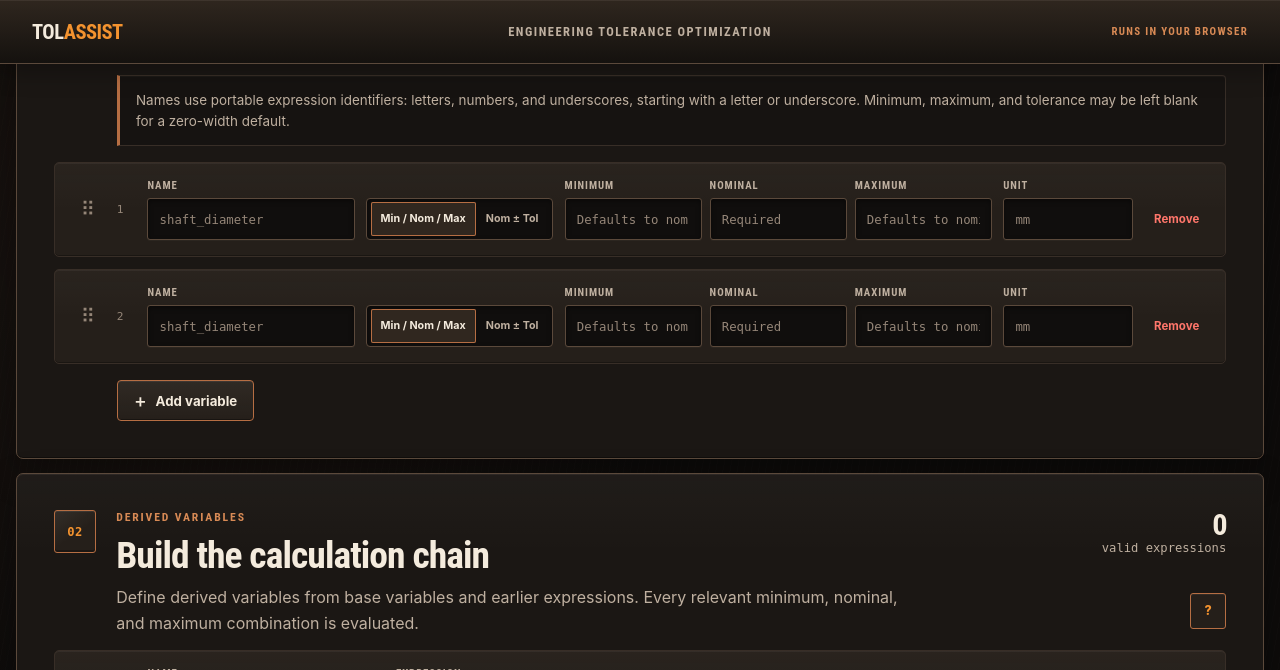
App › adds rows and permits deleting every row
(page scrolled)
Click the button "+ Add variable" at (186, 401), box [117, 380, 254, 421]
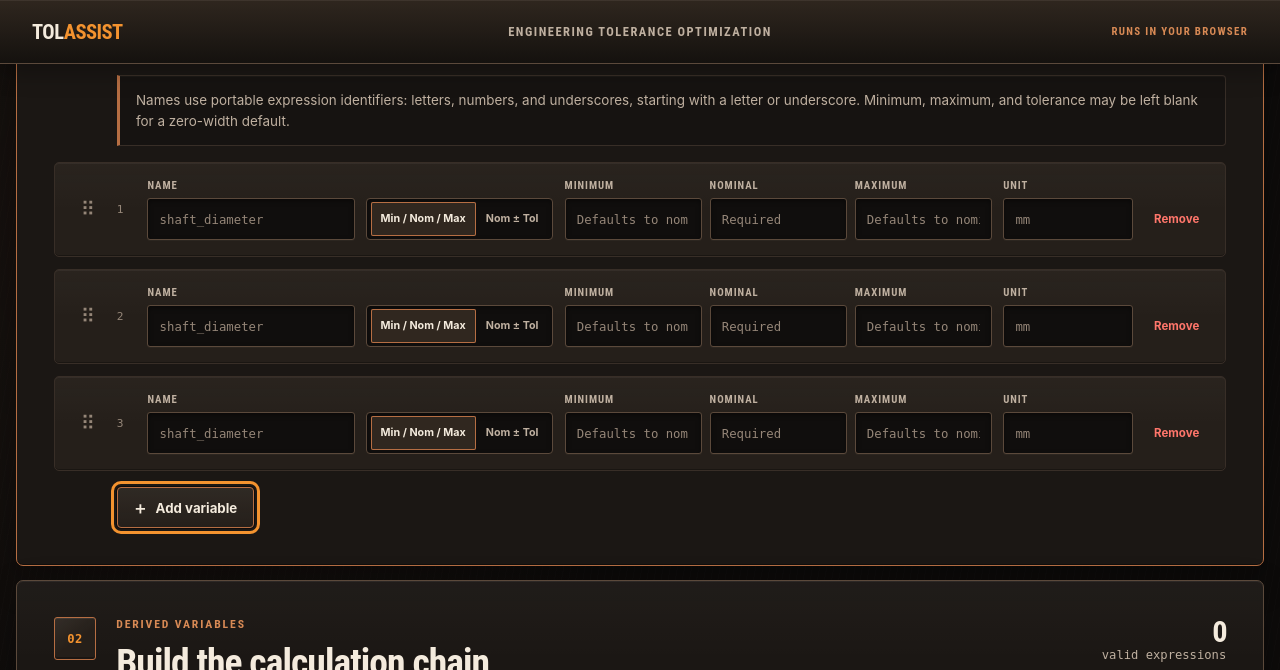
Click the button with aria-label "delete variable" at (1177, 219), box [1144, 198, 1209, 240]
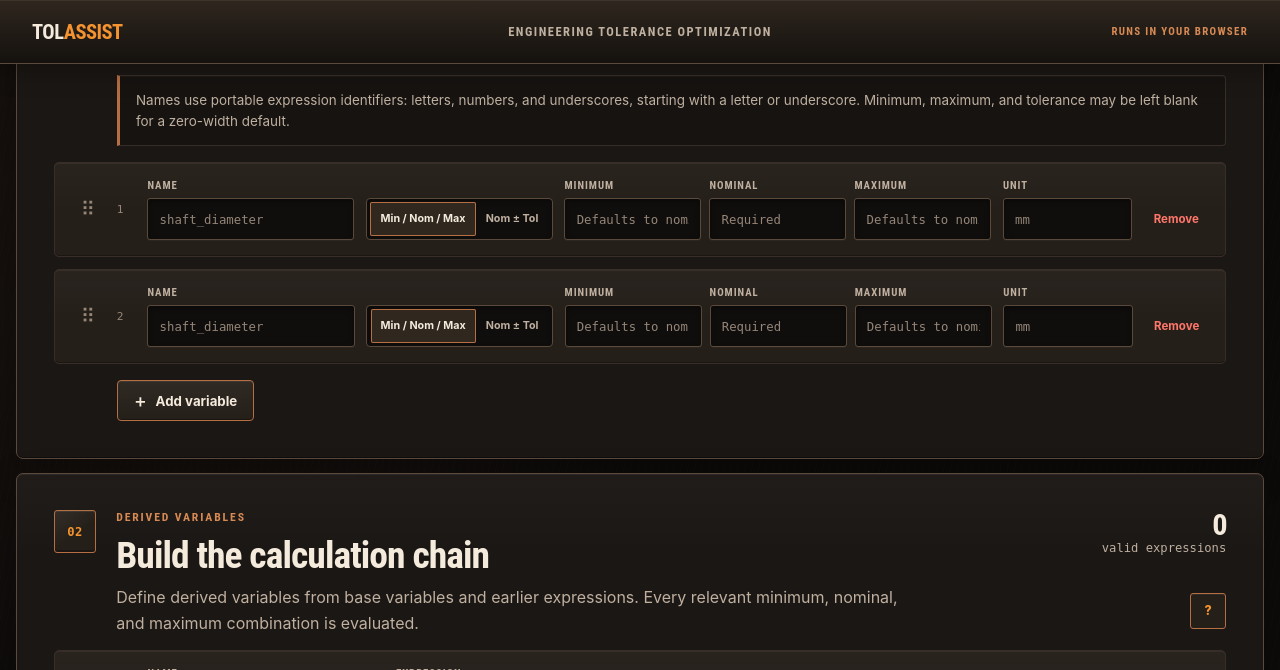
Click the button with aria-label "delete variable" at (1177, 219), box [1144, 198, 1209, 240]
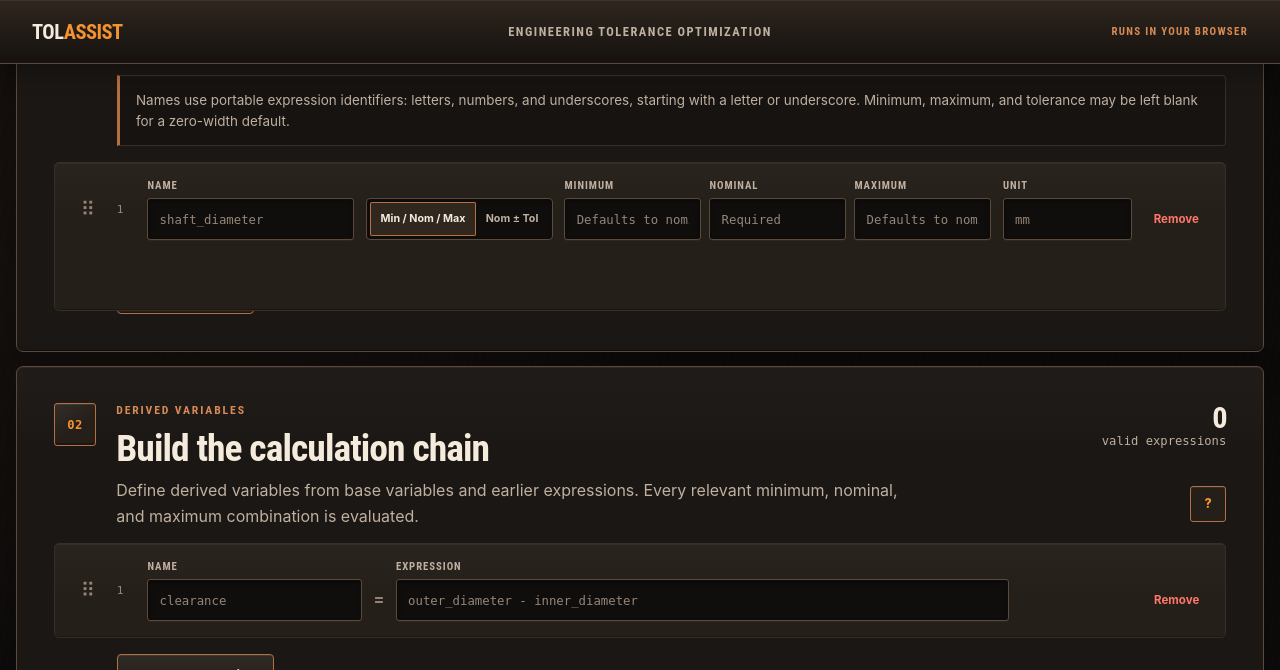
Click the button with aria-label "delete variable" at (1177, 219), box [1144, 198, 1209, 240]
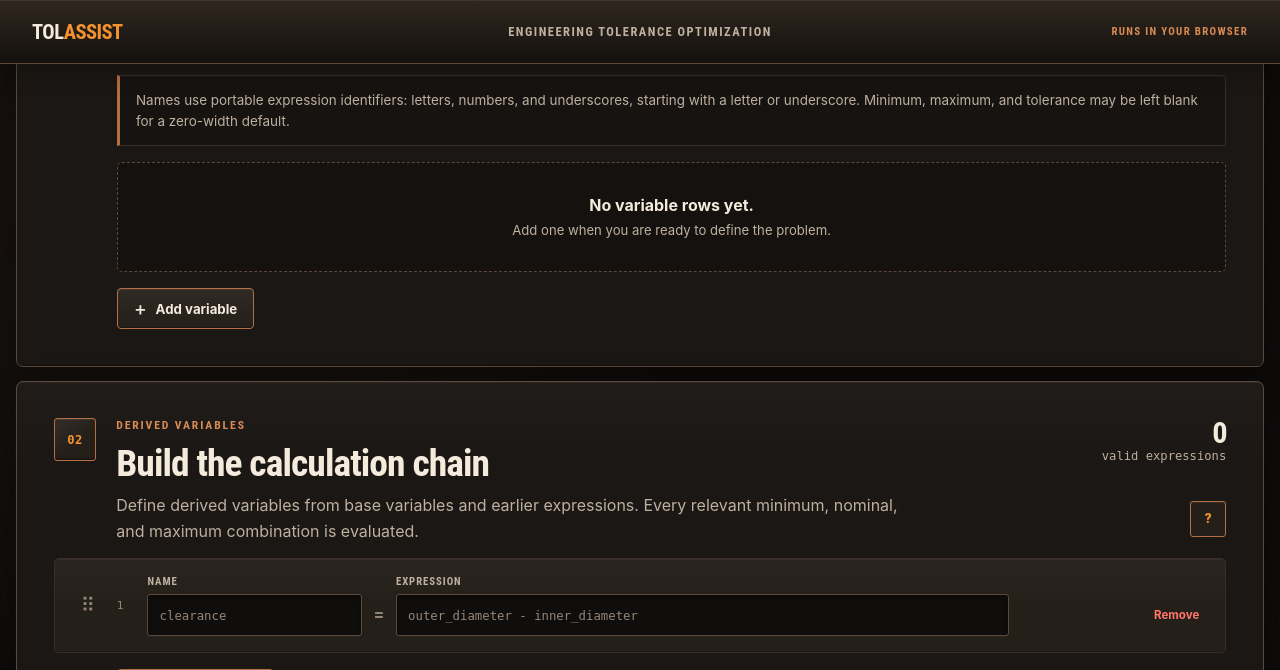
Check: the text "No variable rows yet." is shown, box [589, 195, 754, 215]
